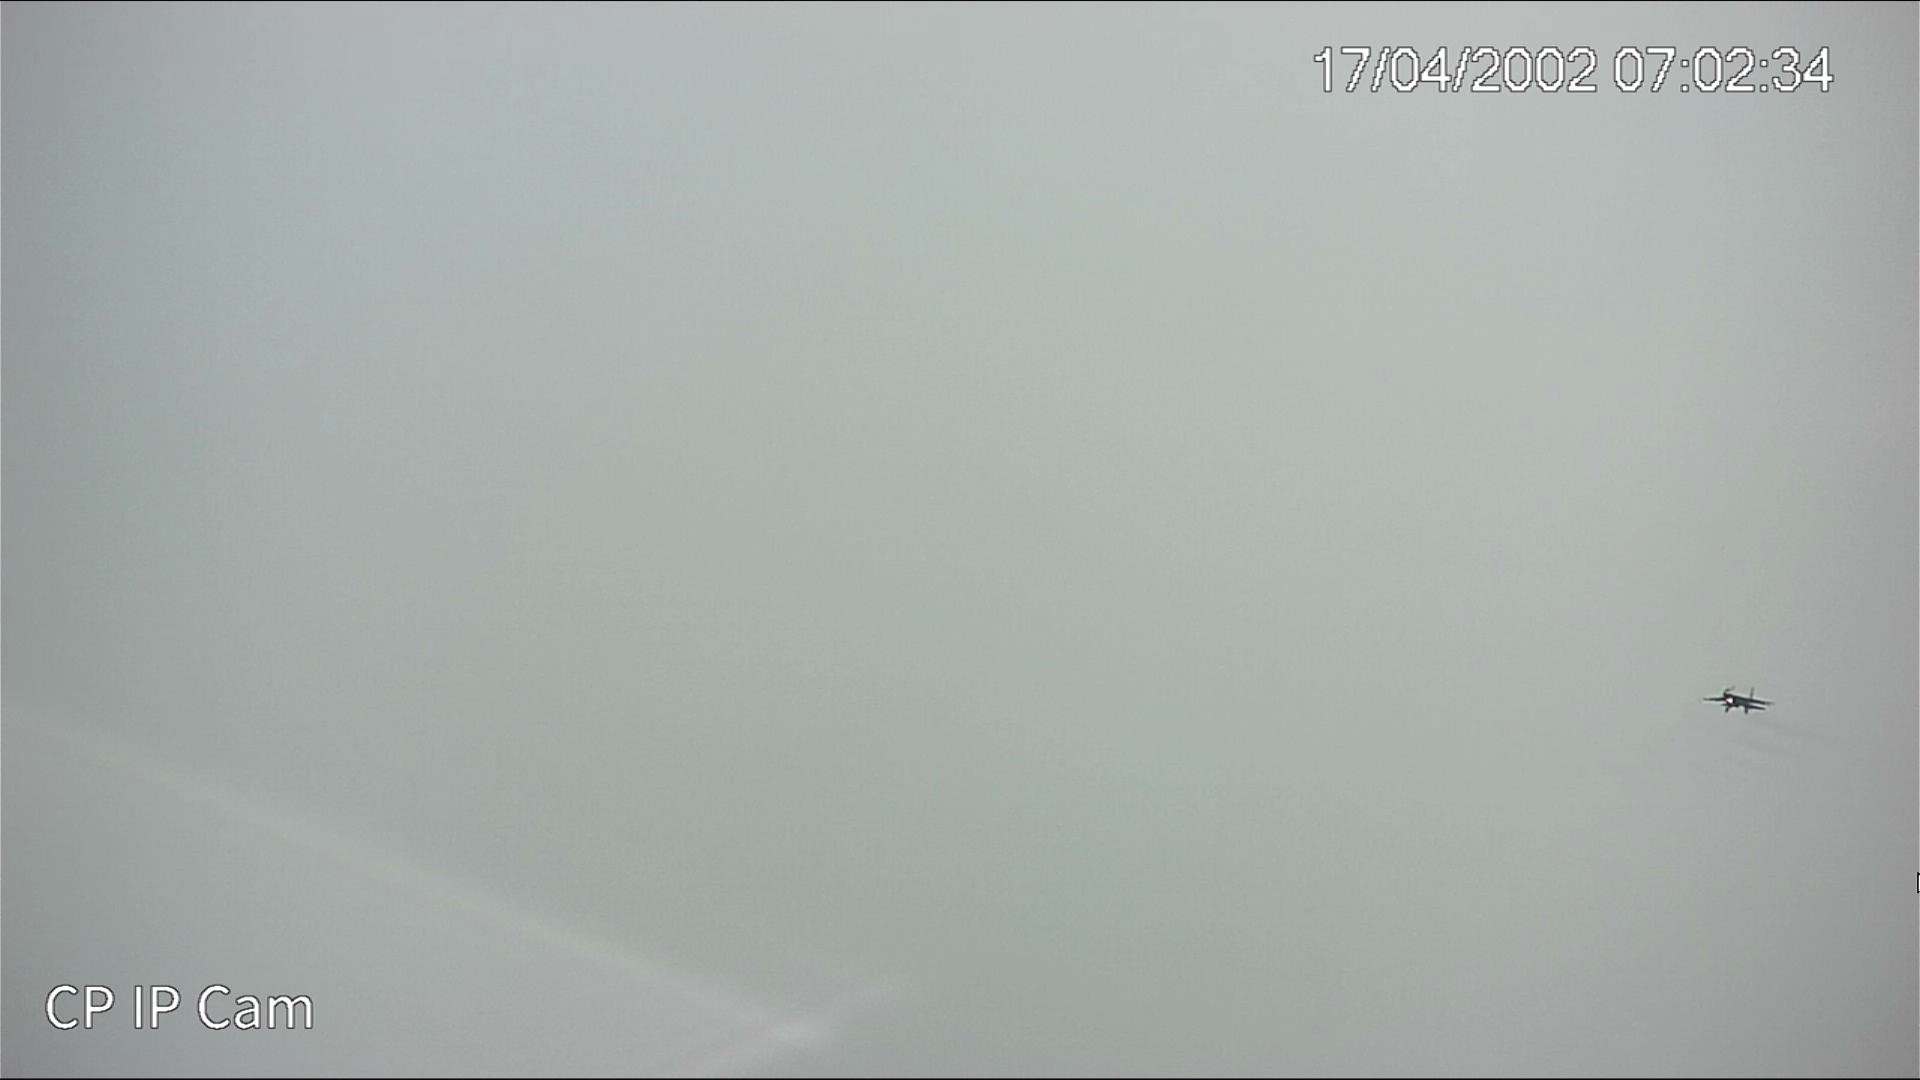SU_30: (1698, 686, 1774, 717)
